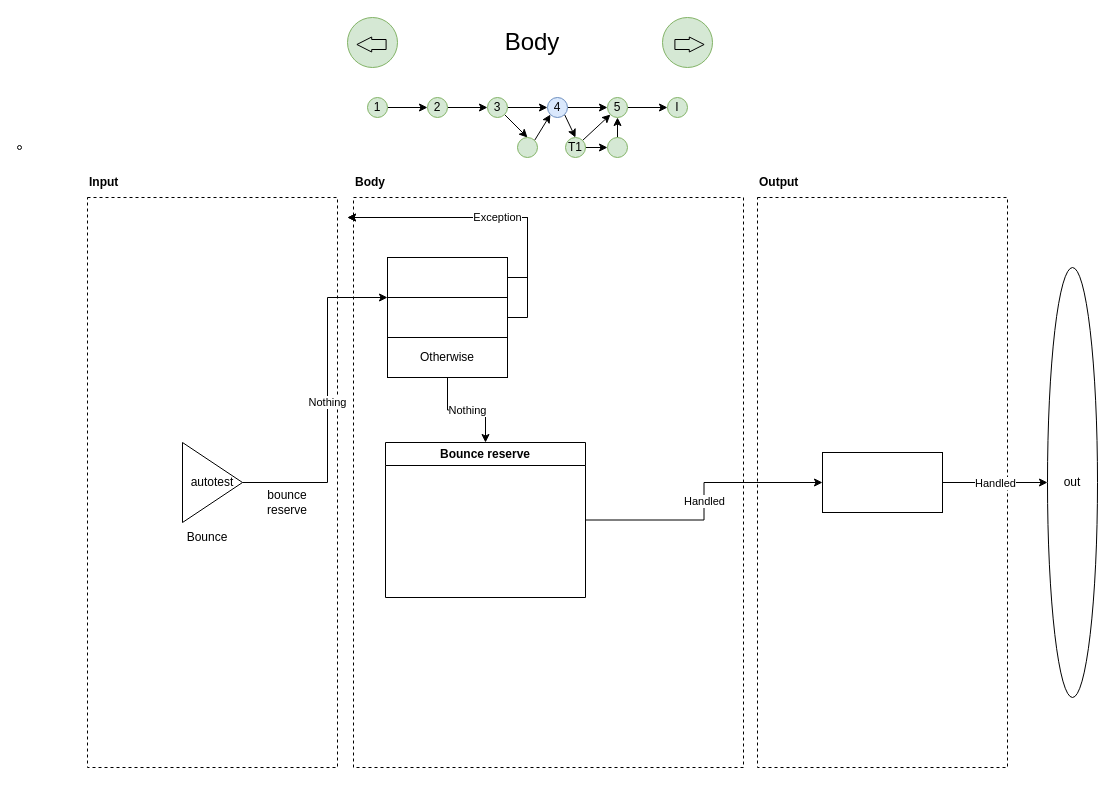
Image size: 1115x785. Some labels were removed from this diagram. Each missing label, with the centre of its shape:
Bounced message: the point at 882,482
Incorrect sender: the point at 447,277
Not enough unstaked tokens: the point at 447,317
S1: the point at 527,147
S2: the point at 617,147
